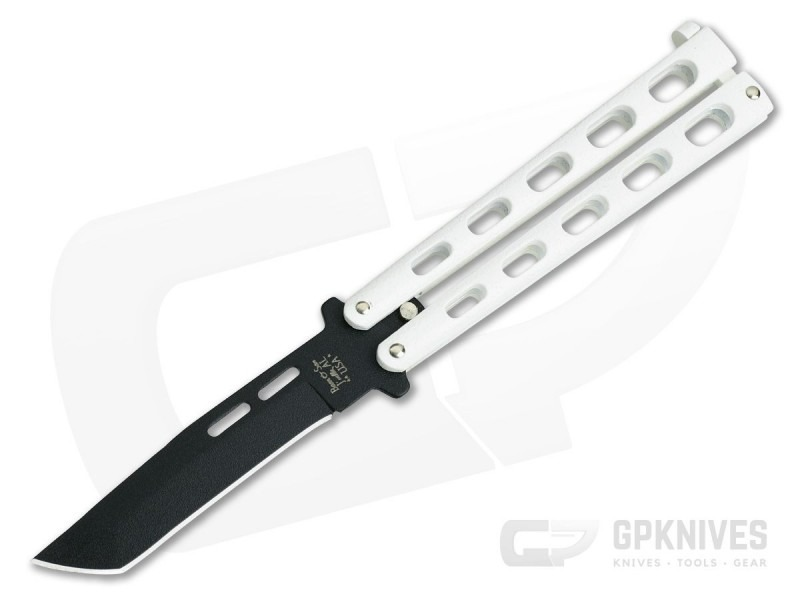knife: (31, 17, 779, 585)
